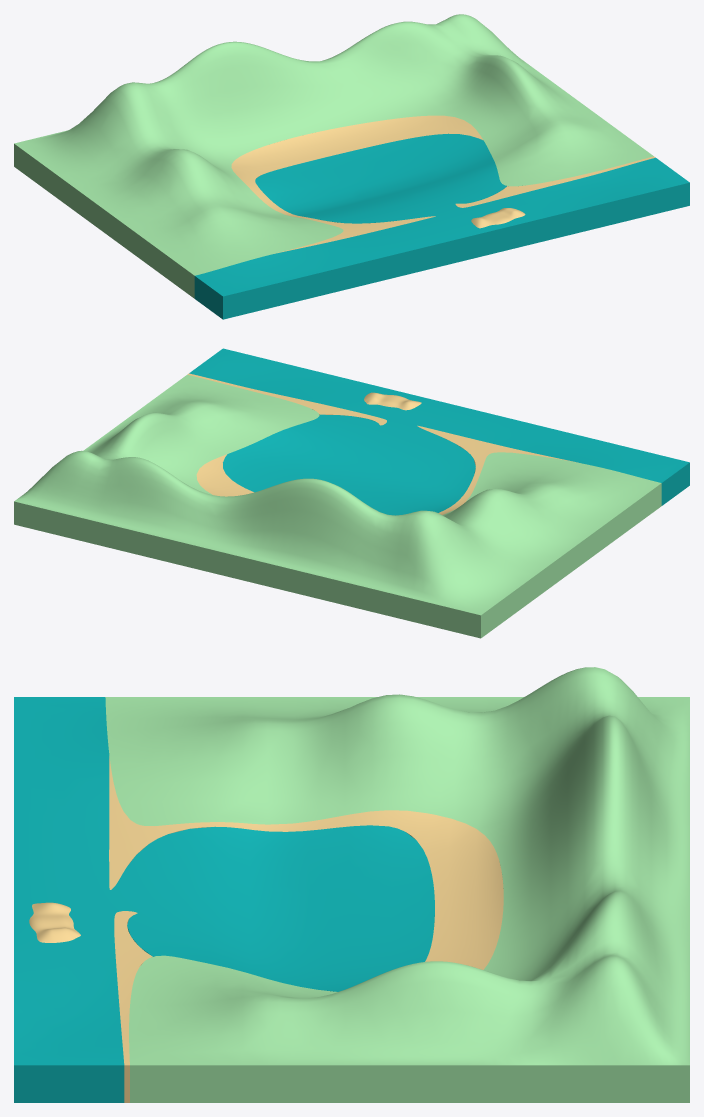
File: lagoon.fbx
The picture shows the model from 3 angles, top to bottom: view 1: azimuth 30°, elevation 25°; view 2: azimuth 150°, elevation 25°; view 3: azimuth 270°, elevation 25°; orthographic projection. The views are drawn at different scales.
Parts seen in each view (by area): view 1: 物件_1, 物件_4, 物件_2, 物件_3, 物件_5; view 2: 物件_1, 物件_4, 物件_2, 物件_3, 物件_5; view 3: 物件_1, 物件_4, 物件_2, 物件_3, 物件_5.
Part boxes in pixels (bbox=[...]): 物件_1: bbox=[14, 14, 653, 298]; 物件_4: bbox=[194, 133, 689, 319]; 物件_2: bbox=[231, 115, 482, 253]; 物件_3: bbox=[455, 156, 655, 207]; 物件_5: bbox=[471, 208, 525, 228]; 物件_1: bbox=[14, 374, 661, 638]; 物件_4: bbox=[189, 348, 689, 515]; 物件_2: bbox=[196, 425, 577, 514]; 物件_3: bbox=[187, 373, 386, 425]; 物件_5: bbox=[364, 392, 421, 410]; 物件_1: bbox=[105, 667, 689, 1102]; 物件_4: bbox=[14, 697, 434, 1102]; 物件_2: bbox=[109, 756, 503, 969]; 物件_3: bbox=[114, 911, 152, 1102]; 物件_5: bbox=[29, 902, 80, 942].
Bounding box in the file's own units: 128 × 99.06 × 24.91.
